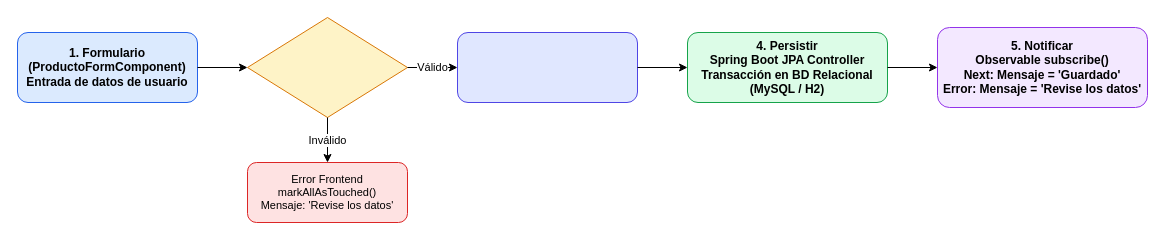
Image size: 1165x240. Some labels were removed from this diagram. The box of each missing label's shape, as (x1, y1, x2, y2) in pixels:
2. Validar Reactive Forms (FormBuilder) ¿Campos válidos?: (246, 16, 408, 118)
3. Enviar ProductoService Petición HTTP (POST / PUT) con Interceptores: (456, 32, 638, 102)
